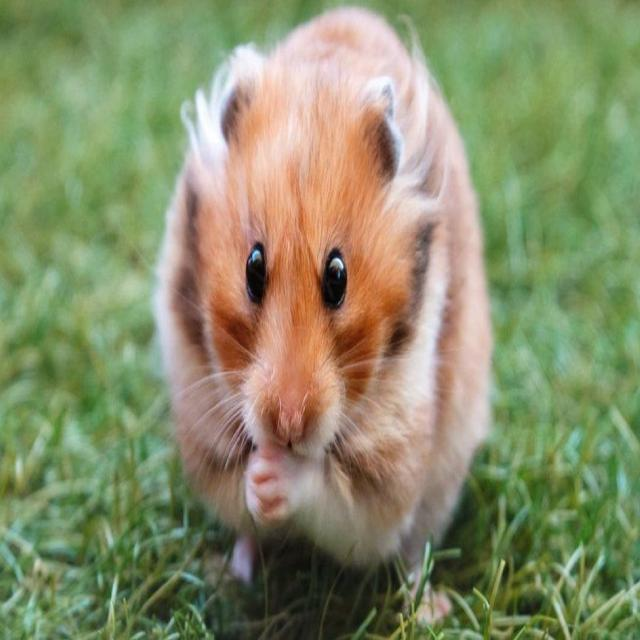hamster: (153, 9, 493, 570)
